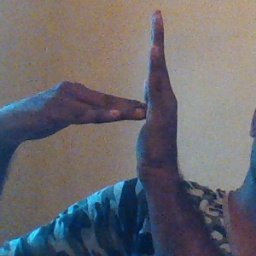Z: (78, 6, 185, 179)
